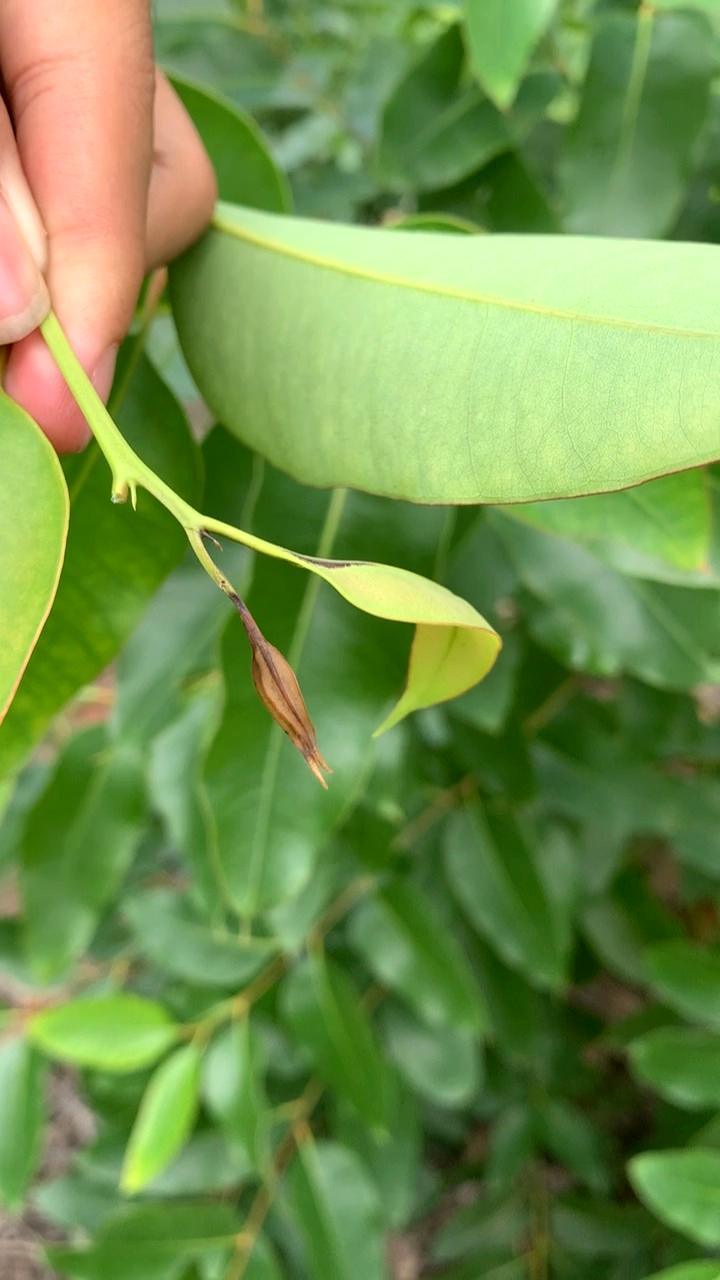Helopeltis-Withered Sprout: (185, 566, 371, 799)
